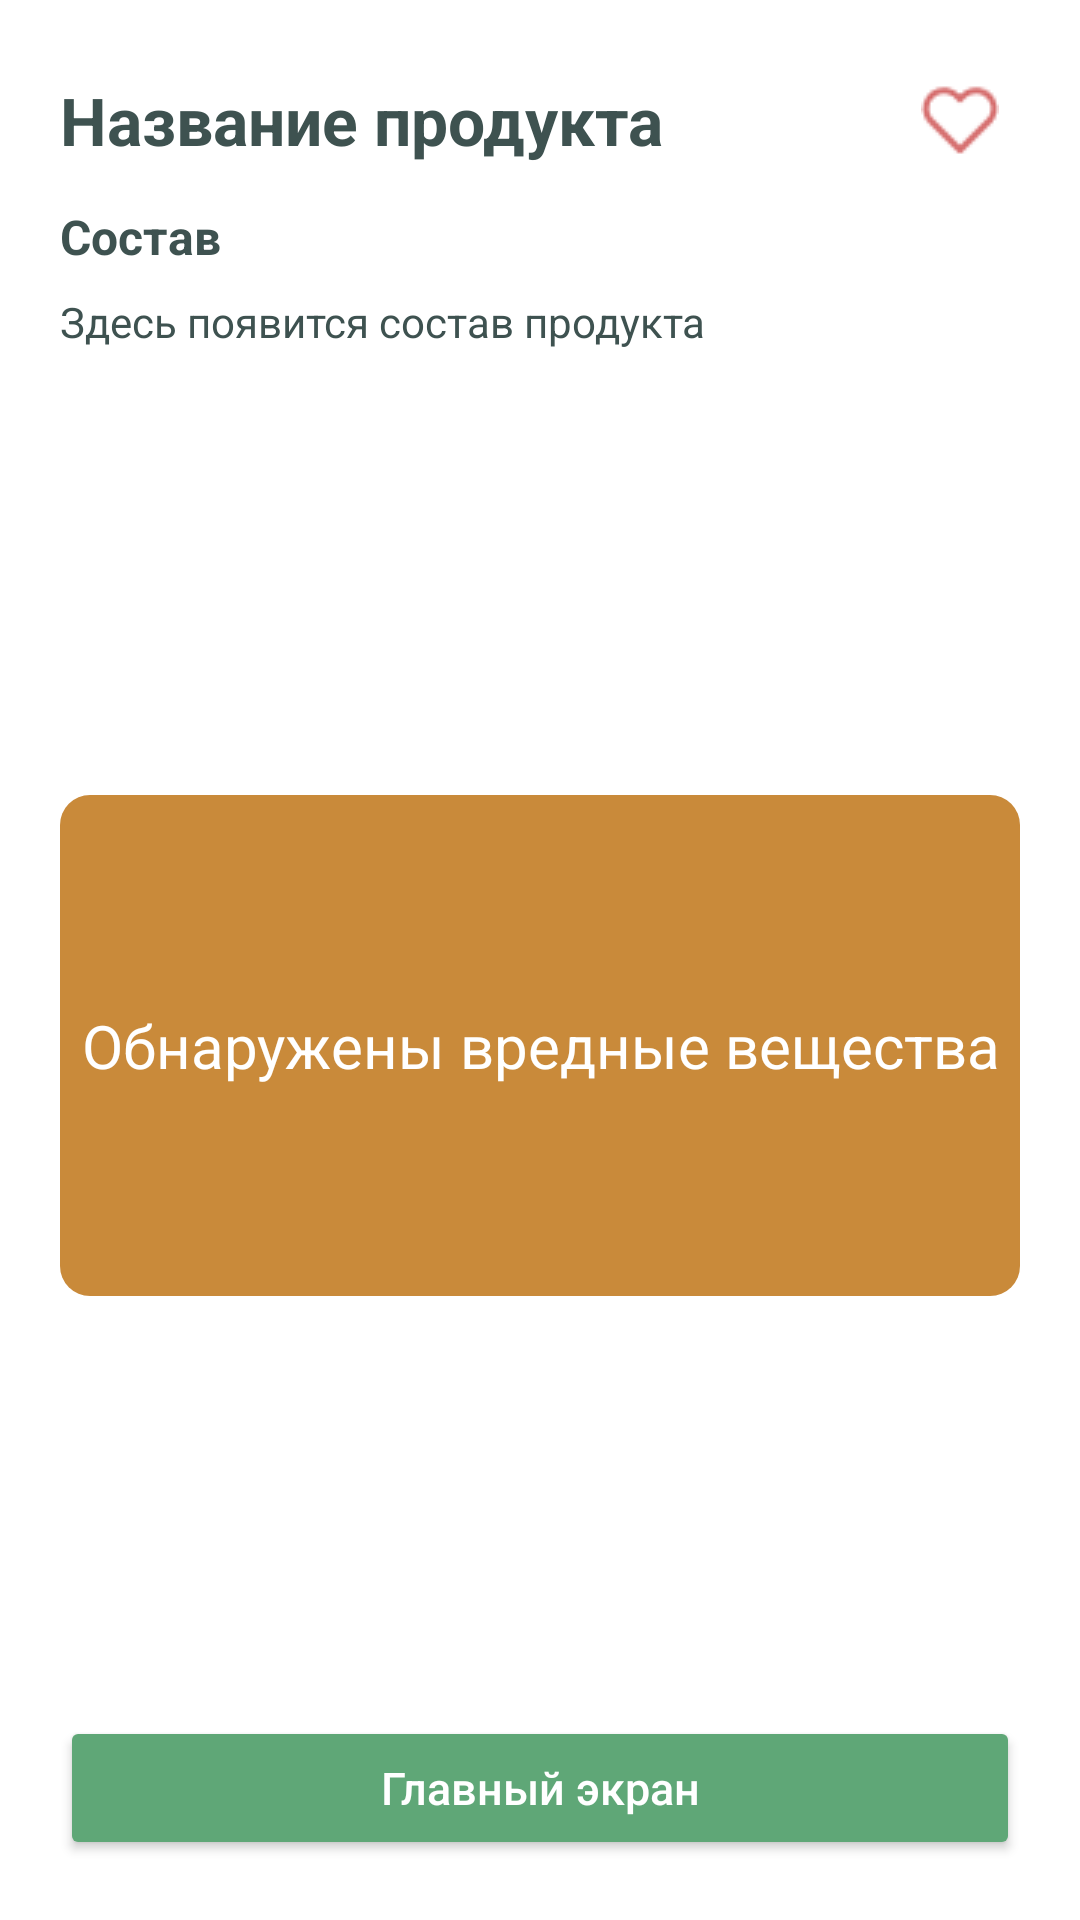

Locate icon controls on the screen. Image size 1080 x 1920, boxes as detection(x1, y1, x2, y2).
В избранное: detection(921, 86, 999, 154)
